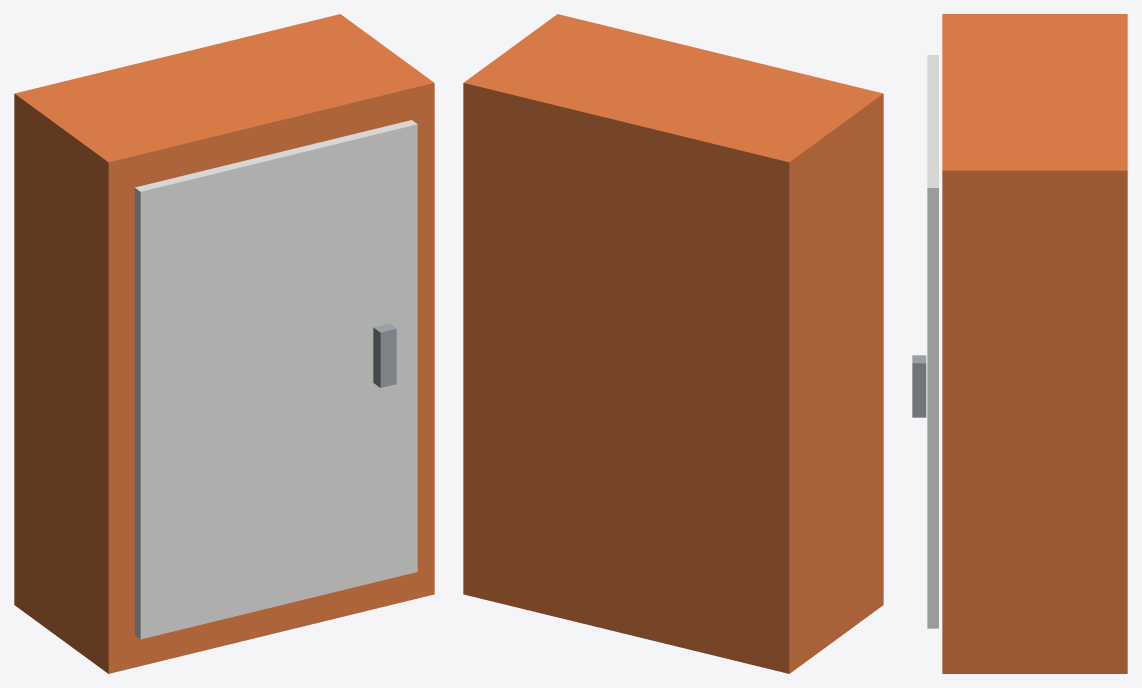
Rendered from long-haul-trucking-and-truck-stop-spill-kit-cabinet-6ccf0675__14011.glb.
The picture shows the model from 3 angles, left to right: view 1: azimuth 30°, elevation 25°; view 2: azimuth 150°, elevation 25°; view 3: azimuth 270°, elevation 25°; orthographic projection.
Visible parts, largest first — view 1: spill-kit-cabinet; view 2: spill-kit-cabinet; view 3: spill-kit-cabinet.
Part boxes in pixels (x1,y1,x2,y2): spill-kit-cabinet: (14,14,434,673); spill-kit-cabinet: (463,14,883,673); spill-kit-cabinet: (912,14,1127,673).
Size of the model in its own units: 0.8 by 1.2 by 0.465.
